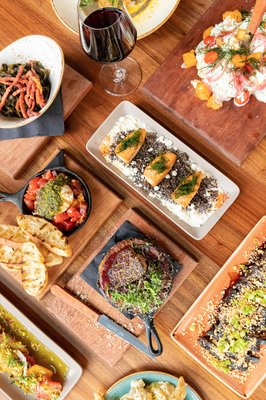sushi: (85, 101, 241, 241), (0, 34, 65, 129), (103, 371, 188, 400)
